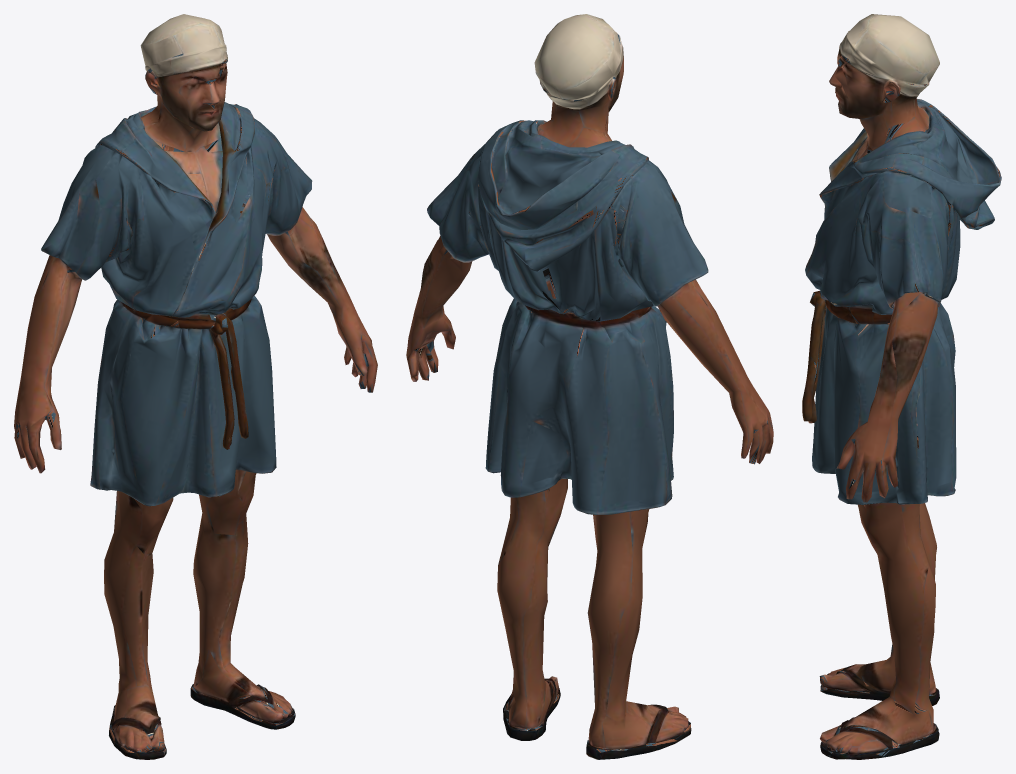
The model's file is liberto.glb.
3 renders of one model, left to right at view 1: azimuth 30°, elevation 25°; view 2: azimuth 150°, elevation 25°; view 3: azimuth 270°, elevation 25°, orthographic.
Parts seen in each view (by area): view 1: liberto; view 2: liberto; view 3: liberto.
Part boxes in pixels (left/top/right/bottom): liberto: left=14, top=14, right=377, bottom=759; liberto: left=406, top=14, right=773, bottom=759; liberto: left=802, top=14, right=1001, bottom=759.
Bounding box in the file's own units: 0.943 × 1.8 × 0.463.
1 material, 1 textured.
